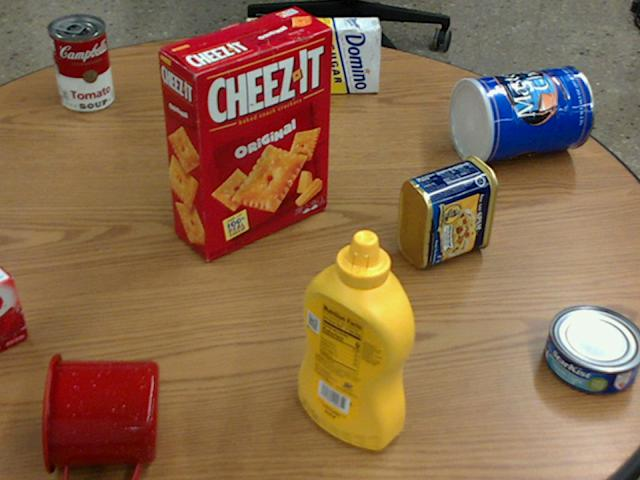cracker_box: (157, 7, 333, 260)
gelatin_box: (0, 265, 25, 349)
master_chef_can: (448, 65, 593, 164)
mug: (40, 352, 155, 479)
mustard_bottle: (298, 229, 413, 450)
potted_meat_can: (397, 154, 498, 268)
sugar_box: (247, 16, 383, 93)
tomato_soup_can: (49, 13, 113, 111)
tuna_fish_can: (544, 304, 639, 393)
